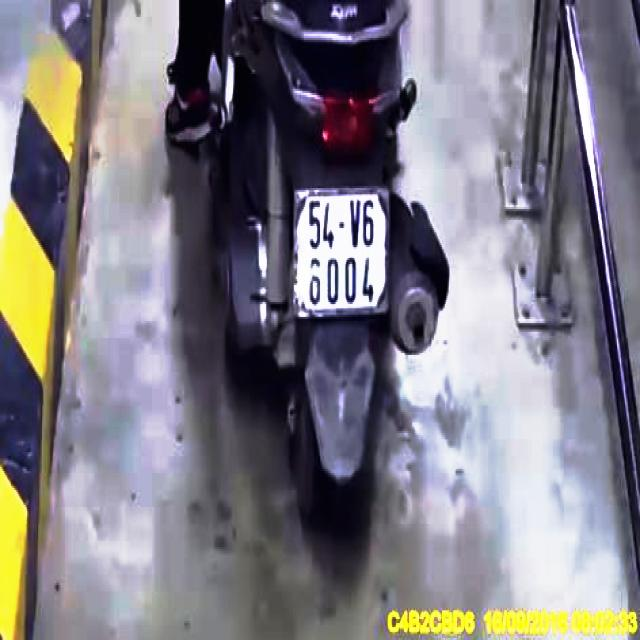license_plate: (292, 187, 392, 318)
